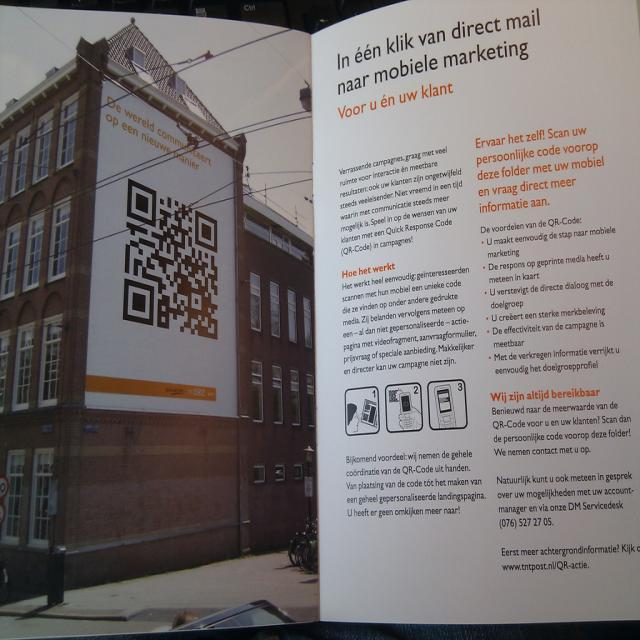qr-code: (122, 178, 216, 340)
